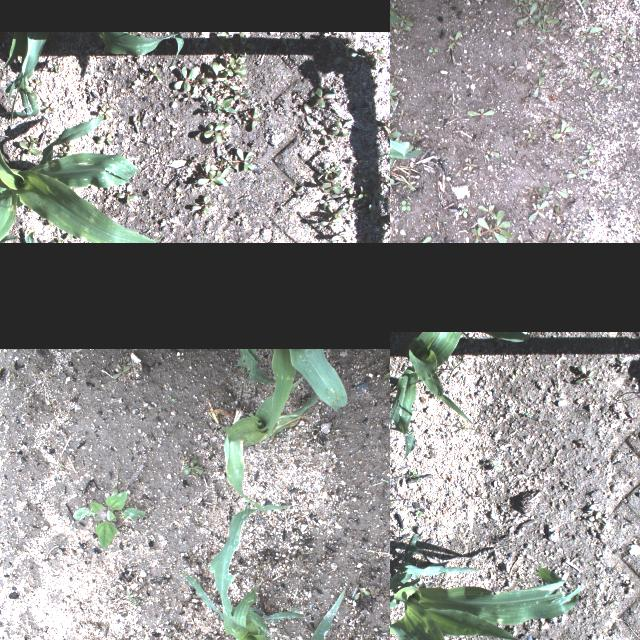crop: (182, 494, 345, 640), (0, 115, 165, 243), (390, 532, 579, 640), (0, 32, 183, 130), (220, 374, 318, 516), (390, 332, 474, 459), (263, 348, 347, 448), (237, 348, 279, 384), (479, 333, 531, 342)
weed: (72, 488, 146, 550), (471, 210, 512, 243), (213, 46, 245, 78), (359, 204, 390, 236), (216, 32, 254, 58), (172, 66, 204, 94), (390, 137, 413, 169), (332, 44, 358, 70), (197, 162, 223, 188), (580, 510, 606, 536), (567, 363, 595, 387), (228, 148, 254, 172), (202, 121, 230, 142), (363, 180, 382, 210), (206, 96, 236, 114), (291, 103, 315, 125), (362, 46, 386, 68), (201, 62, 227, 82), (607, 408, 639, 424), (317, 162, 343, 180), (466, 108, 494, 124), (320, 172, 340, 194), (516, 2, 536, 24), (533, 17, 555, 37), (404, 465, 426, 485), (243, 108, 261, 132), (541, 182, 567, 198), (314, 87, 334, 107), (183, 455, 203, 475), (116, 184, 138, 202), (331, 119, 352, 137), (191, 196, 211, 214), (214, 147, 232, 167), (528, 201, 546, 221), (554, 120, 572, 140), (319, 215, 341, 231), (390, 9, 412, 25), (477, 204, 498, 220), (532, 77, 548, 97), (620, 23, 636, 42), (48, 54, 64, 72), (536, 190, 552, 208), (326, 206, 346, 220), (19, 141, 39, 155), (408, 509, 428, 523), (536, 14, 558, 26), (391, 21, 411, 34), (318, 195, 334, 211), (276, 36, 292, 52), (532, 186, 548, 202), (112, 364, 128, 380), (354, 168, 372, 182), (206, 164, 224, 178), (221, 76, 239, 90), (538, 231, 558, 243), (570, 439, 590, 451), (341, 188, 355, 205), (538, 0, 563, 9), (232, 212, 248, 226), (147, 64, 161, 80), (488, 457, 502, 473), (448, 30, 460, 48), (554, 203, 564, 224), (566, 169, 586, 179), (320, 130, 334, 144), (350, 153, 364, 167), (348, 185, 362, 199), (98, 105, 112, 119), (586, 110, 600, 124), (592, 78, 606, 92), (508, 60, 522, 74), (326, 42, 334, 66), (96, 133, 112, 145), (590, 23, 606, 35), (522, 126, 538, 138), (400, 178, 416, 190), (354, 588, 370, 600), (365, 233, 384, 243), (379, 119, 390, 136), (330, 231, 348, 241), (582, 61, 600, 71), (216, 172, 228, 186), (220, 164, 232, 178), (233, 88, 247, 100), (29, 78, 43, 90), (60, 139, 74, 151), (608, 81, 622, 93), (578, 26, 590, 40), (558, 70, 572, 82), (465, 157, 477, 171), (406, 129, 420, 141), (368, 173, 377, 191), (382, 359, 390, 379), (125, 588, 135, 604), (612, 360, 628, 370), (290, 188, 304, 198), (529, 6, 539, 20), (411, 236, 430, 243), (510, 0, 521, 12), (455, 166, 467, 177), (390, 500, 401, 512), (41, 103, 54, 113), (390, 82, 395, 107), (26, 136, 38, 146), (188, 156, 198, 168), (604, 188, 616, 198), (581, 0, 596, 8), (566, 228, 578, 238), (486, 149, 498, 159), (404, 171, 414, 183), (390, 128, 400, 140), (182, 92, 195, 101), (511, 237, 530, 243), (390, 70, 401, 80), (518, 0, 535, 6), (227, 160, 237, 170), (589, 70, 599, 80), (400, 201, 410, 211), (57, 462, 67, 472), (56, 152, 72, 158), (601, 71, 607, 87), (460, 206, 468, 218), (397, 109, 405, 121), (574, 0, 585, 8), (608, 52, 620, 59), (532, 231, 540, 241), (451, 100, 459, 110), (428, 46, 438, 54), (384, 146, 390, 158), (536, 4, 542, 16), (233, 113, 240, 123), (585, 145, 593, 153), (482, 236, 491, 243), (390, 1, 397, 10), (316, 46, 322, 56), (324, 32, 334, 38), (133, 116, 139, 126), (576, 237, 584, 243), (528, 136, 536, 142), (50, 240, 65, 243), (523, 186, 533, 190), (395, 94, 401, 100), (168, 396, 174, 402), (484, 156, 490, 160), (428, 35, 432, 39), (452, 13, 456, 17), (442, 222, 446, 224)
